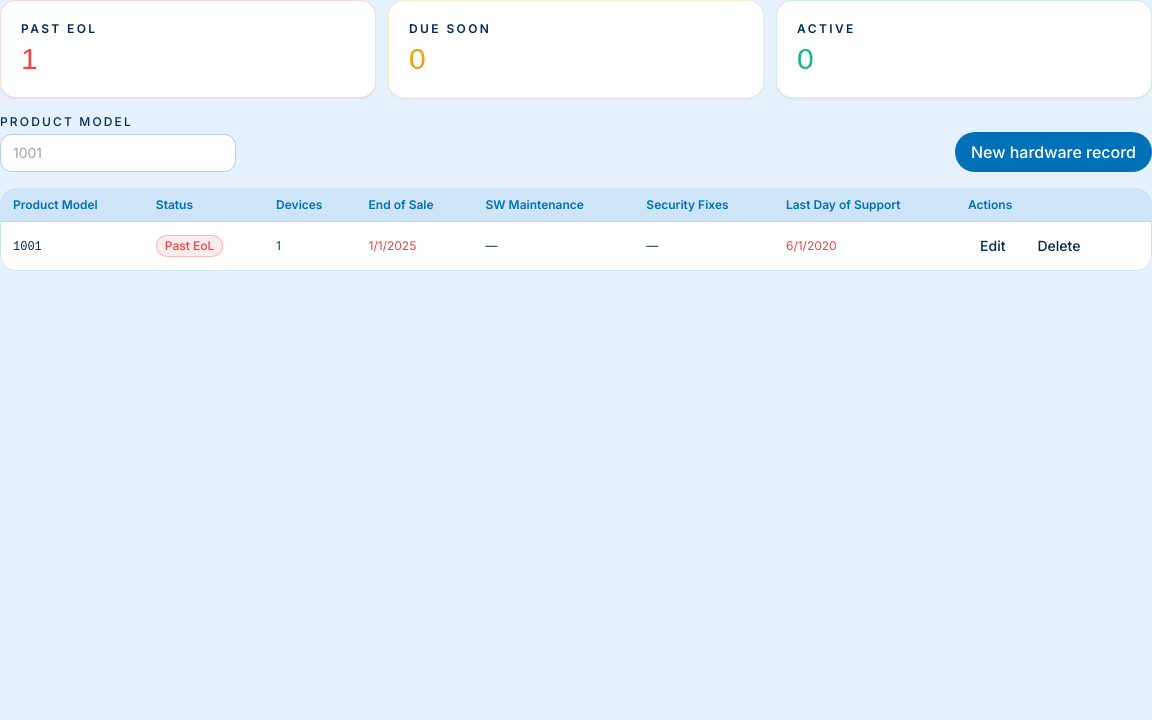
it: Lifecycle pages › drills into affected devices from the hardware device count
This screenshot has width=1152, height=720.
Note: Device count button (one matching device) opens the device list modal.
Click the button "1": (278, 246) [276,238,281,254]
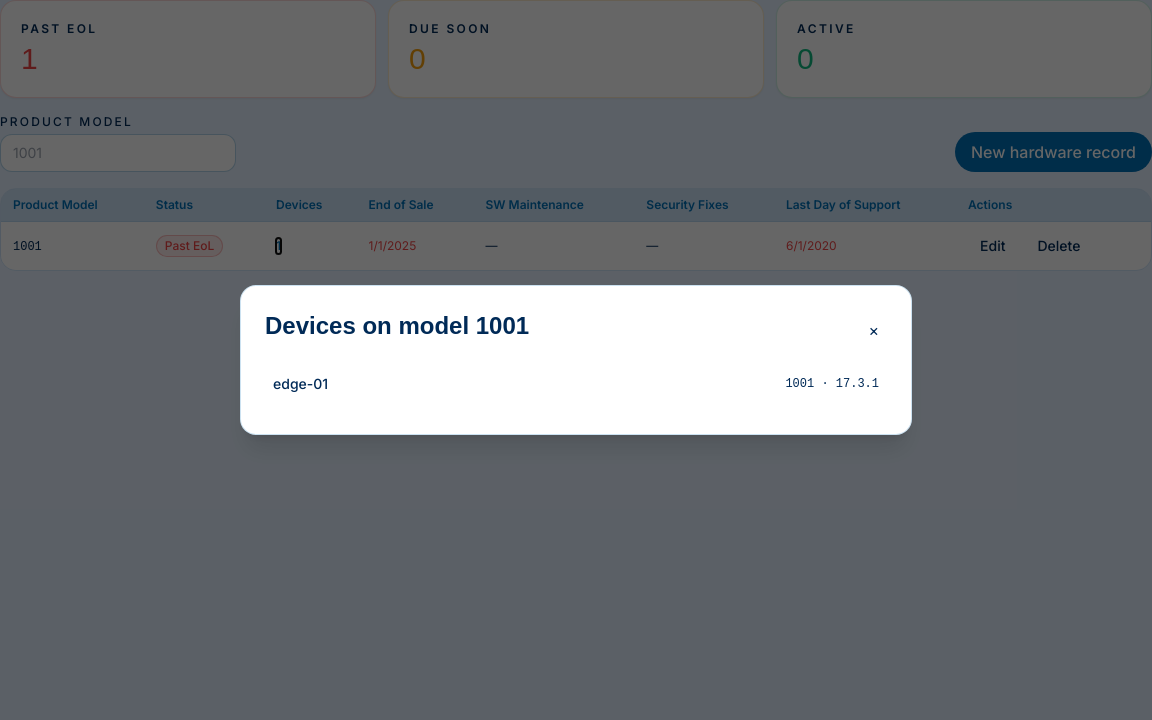
Check: the text "edge-01" is shown, box [273,374,328,394]
